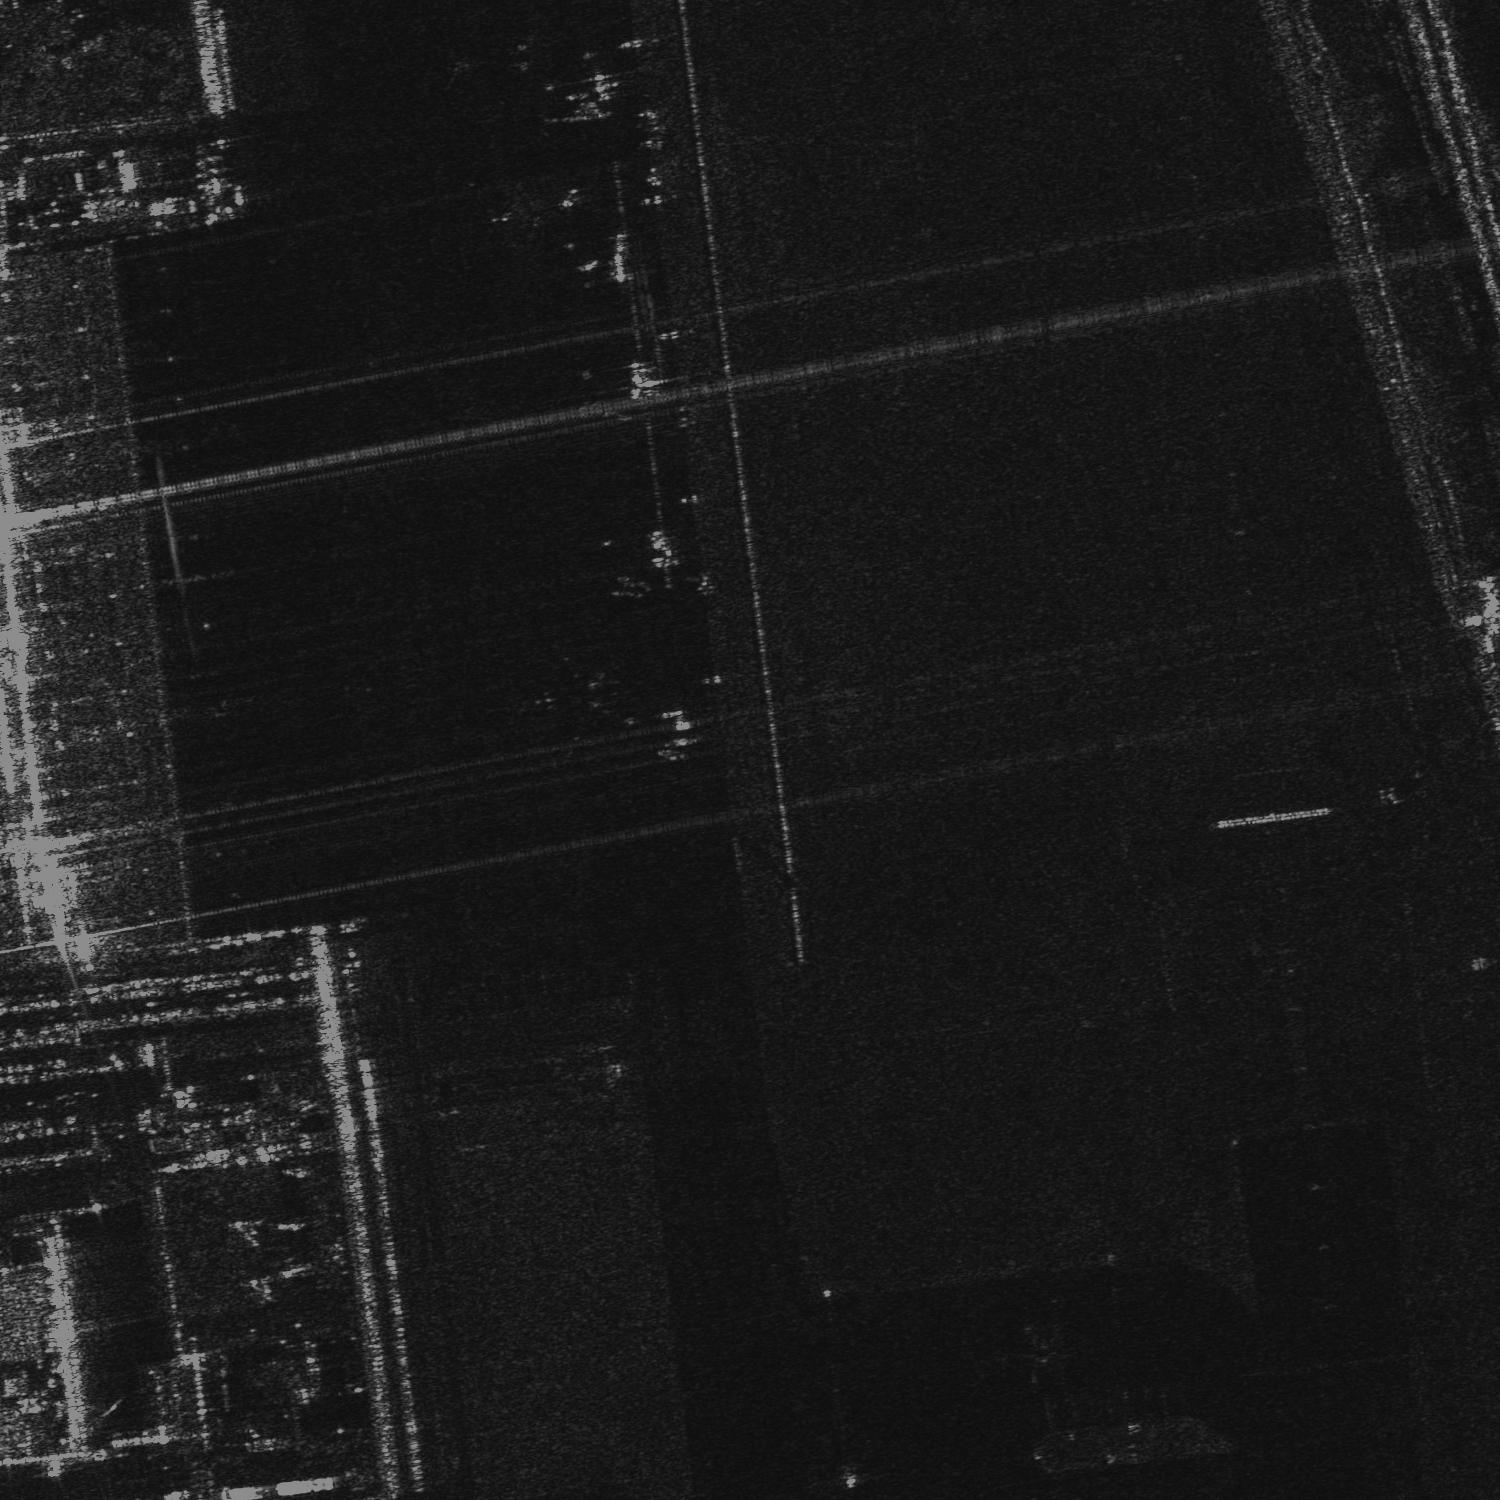A220: (484, 180, 554, 247)
Boeing787: (512, 639, 626, 760)
